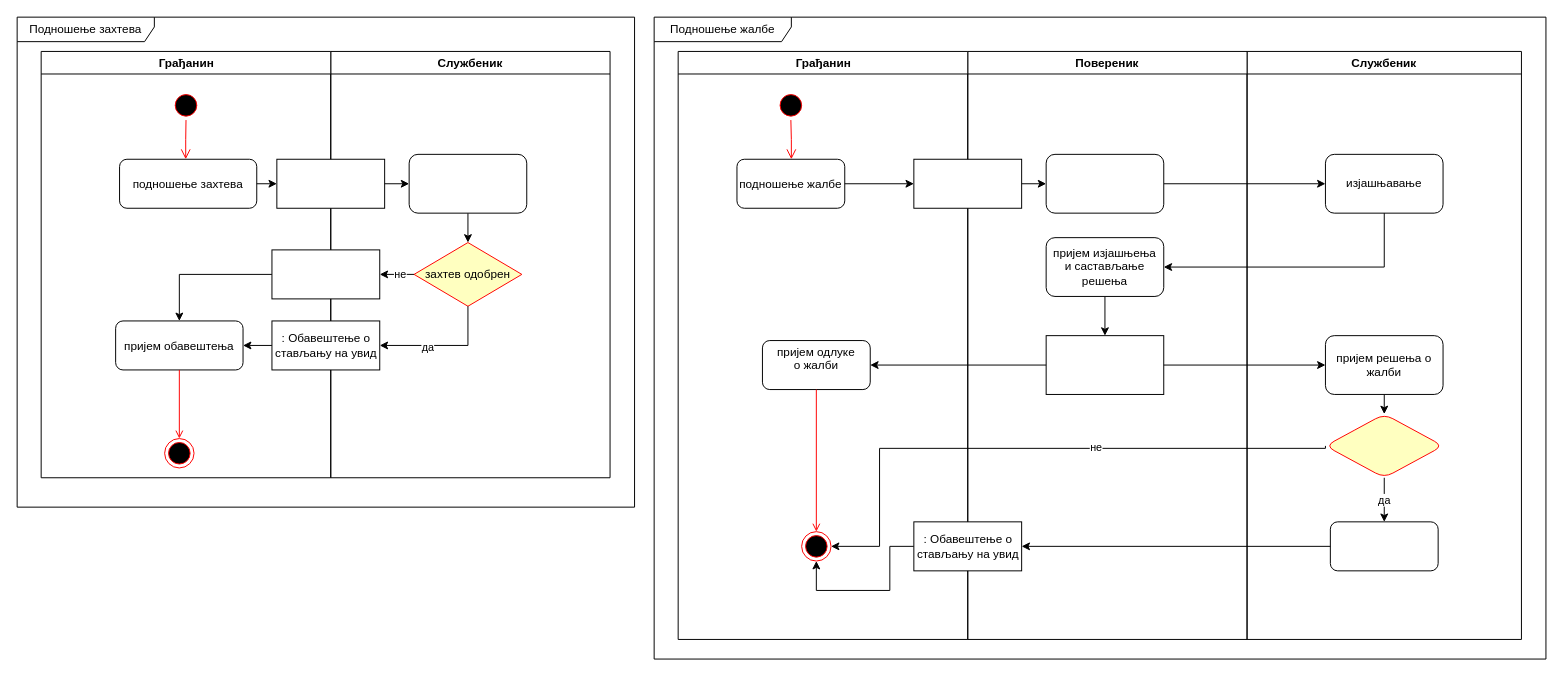
The diagram is 1563 pixels wide and 676 high, and some of its shapes have lost their labels. Each missing label, with the centre of its shape:
: Жалба: the point at 967,183
: Захтев: the point at 330,183
: Обавештење о одбијању: the point at 325,274
: Одлука по жалби: the point at 1104,364
достављање информација: the point at 1383,546
обавештавање органа о жалби: the point at 1104,183
одлука уважена: the point at 1383,445
пријем захтева: the point at 467,183
